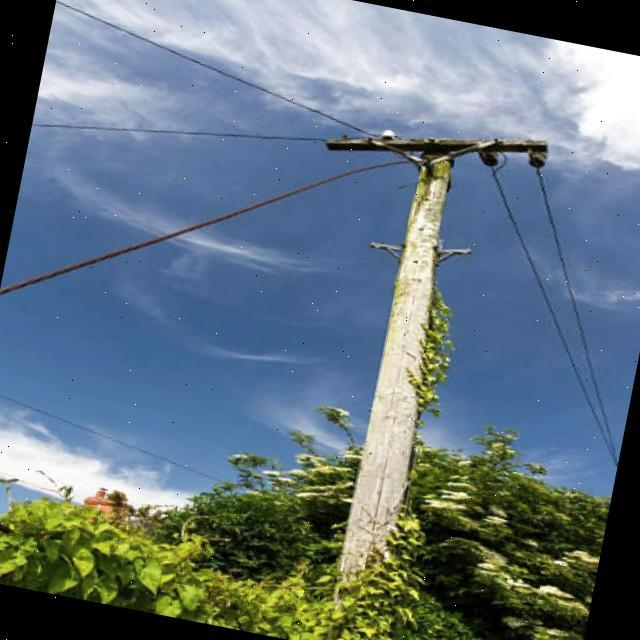critical vegetation: (254, 86, 569, 439)
